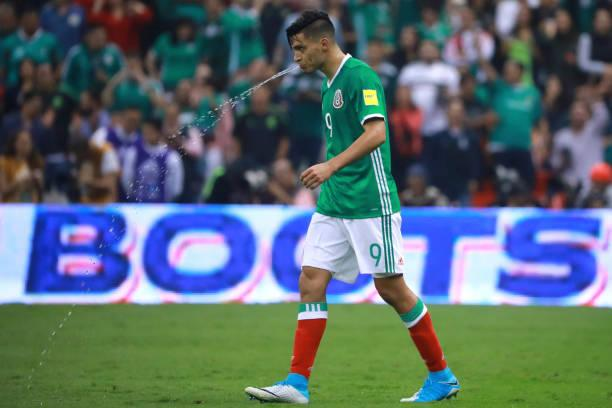Spitting: (224, 9, 387, 91)
